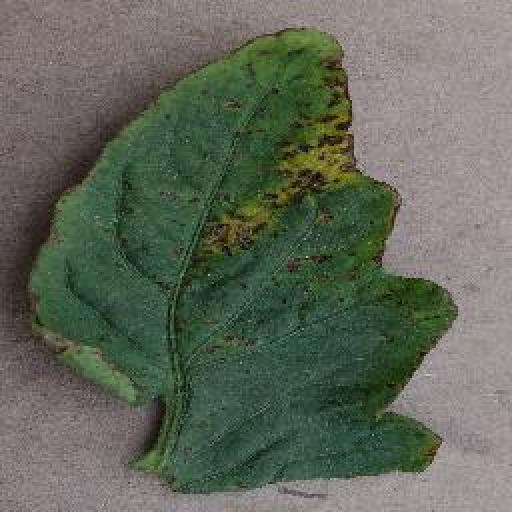Bacterial Spot: (17, 21, 464, 494)
